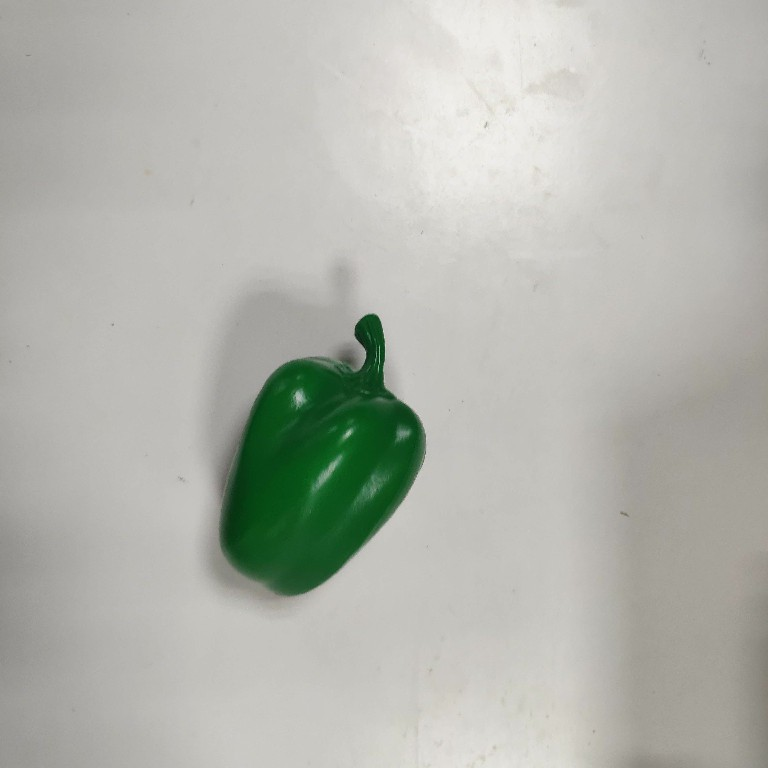fruit_pepper: (215, 309, 431, 600)
